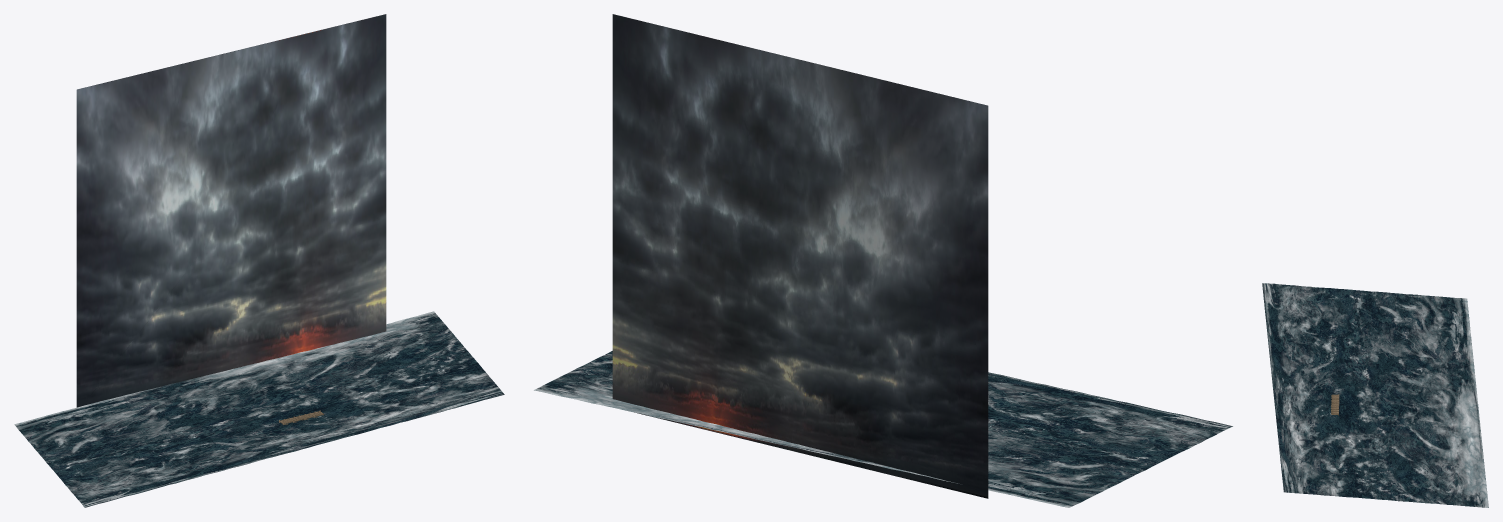
The model's file is BridgeofDeceptionNight.glb.
3 renders of one model, left to right at view 1: azimuth 30°, elevation 25°; view 2: azimuth 150°, elevation 25°; view 3: azimuth 270°, elevation 25°, orthographic. The views are drawn at different scales.
Visible parts, largest first — view 1: Plane.001, PlaneShape_0.001; view 2: Plane.001, PlaneShape_0.001; view 3: PlaneShape_0.001.
Part boxes in pixels (<box>): Plane.001: <box>76,14,386,407</box>; PlaneShape_0.001: <box>14,311,504,507</box>; Plane.001: <box>612,14,988,498</box>; PlaneShape_0.001: <box>534,351,1232,507</box>; PlaneShape_0.001: <box>1262,283,1488,507</box>.
Bounding box in the file's own units: 287 × 192 × 122.
Materials: 17 (17 with a texture image).
